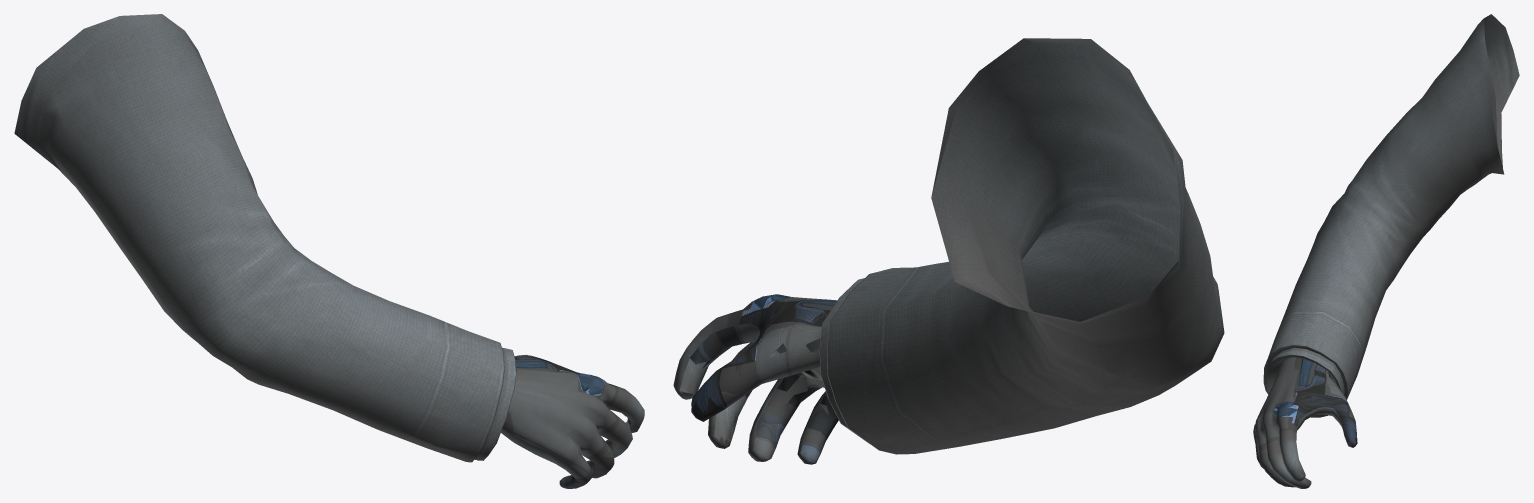
The model's file is cientifico_brazo_der.obj.
3 renders of one model, left to right at view 1: azimuth 30°, elevation 25°; view 2: azimuth 150°, elevation 25°; view 3: azimuth 270°, elevation 25°, orthographic. The views are drawn at different scales.
Parts seen in each view (by area): view 1: brazo_der_Material.002; view 2: brazo_der_Material.002; view 3: brazo_der_Material.002.
Part boxes in pixels (left/top/right/bottom): brazo_der_Material.002: left=14, top=14, right=644, bottom=488; brazo_der_Material.002: left=673, top=38, right=1224, bottom=464; brazo_der_Material.002: left=1253, top=14, right=1519, bottom=488.
Bounding box in the file's own units: 0.4198 × 0.3804 × 0.268.
